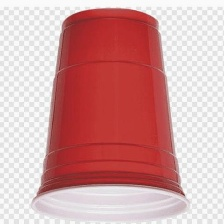glass: (28, 3, 203, 224)
